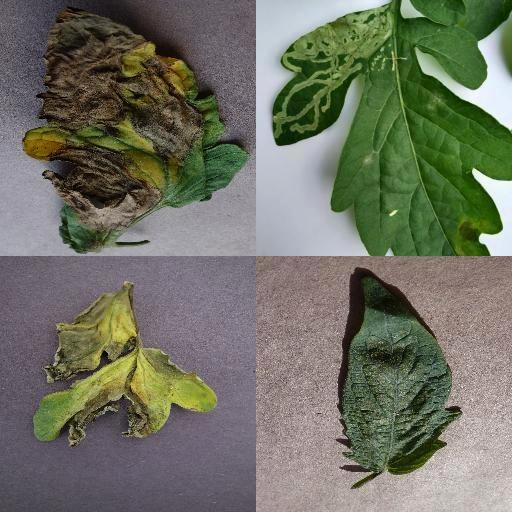Late Blight: (21, 6, 247, 256), (31, 284, 217, 450)
Leaf Miner: (271, 0, 512, 256)
Spider Mites: (343, 275, 463, 475)
